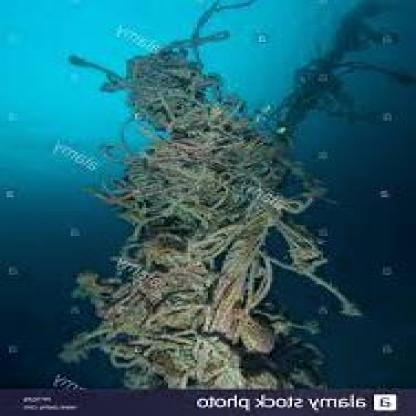net: (98, 56, 306, 388)
